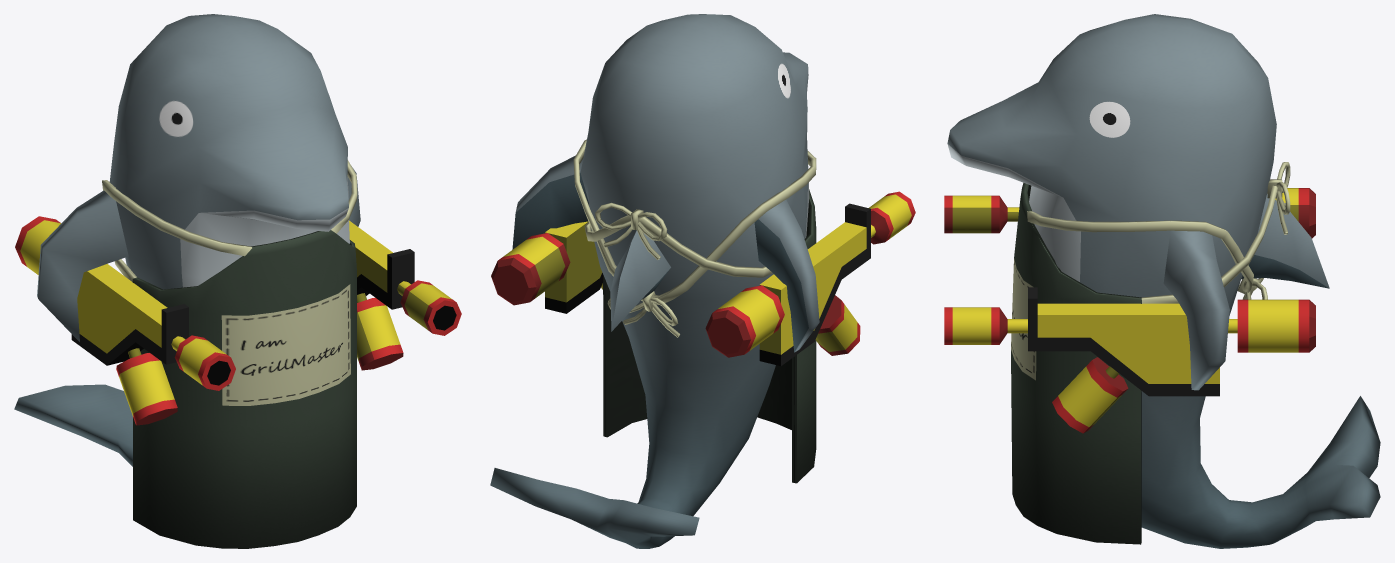
File: GrillMaster.fbx
The picture shows the model from 3 angles, left to right: view 1: azimuth 30°, elevation 25°; view 2: azimuth 150°, elevation 25°; view 3: azimuth 270°, elevation 25°; orthographic projection. The views are drawn at different scales.
Visible parts, largest first — view 1: GrillMaster; view 2: GrillMaster; view 3: GrillMaster.
Part boxes in pixels (x1=…): GrillMaster: x1=14, y1=14, x2=461, y2=548; GrillMaster: x1=490, y1=14, x2=915, y2=548; GrillMaster: x1=944, y1=14, x2=1380, y2=548.
Bounding box in the file's own units: 1.74 × 2.66 × 2.02.
